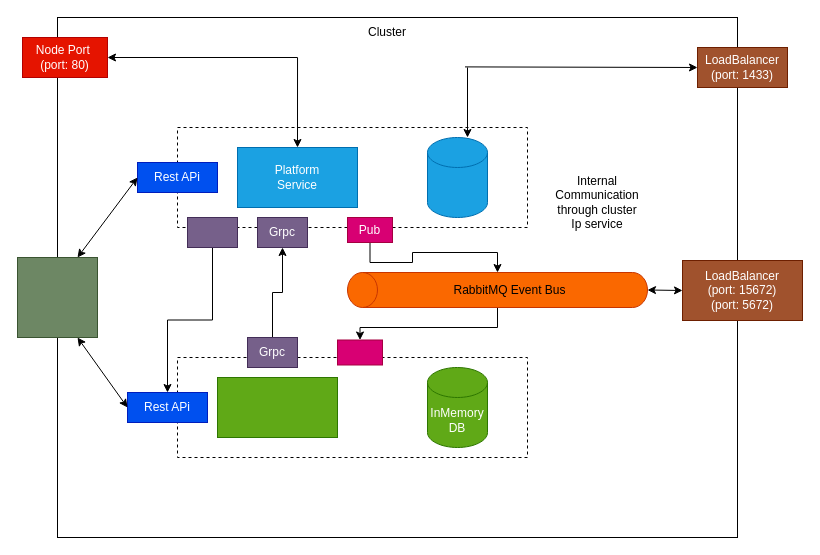
This 820x555 diagram has some shape labels left out. Here are the shapes that lost their labels. From the top down, the centre of each, then its label:
At (457,177): "SQL Server".
At (212,232): "Http".
At (57,297): "Api Gateway (Ingress nginx)".
At (359,352): "Sub".
At (277,407): "Command Service".
